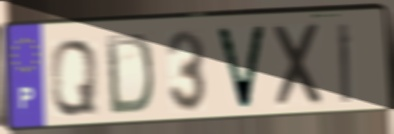3: (165, 28, 209, 116)
D: (103, 31, 157, 118)
I: (336, 20, 353, 106)
Q: (48, 36, 100, 118)
V: (212, 23, 270, 114)
X: (271, 19, 327, 112)
